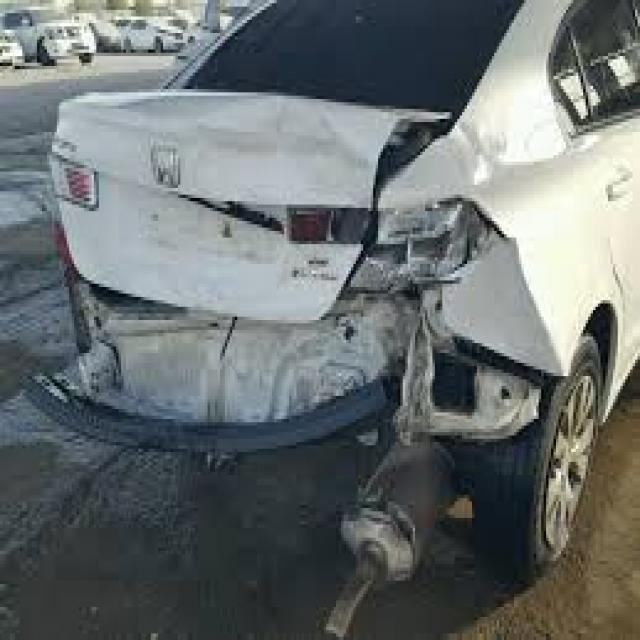damaged-trunk: (51, 90, 410, 332)
